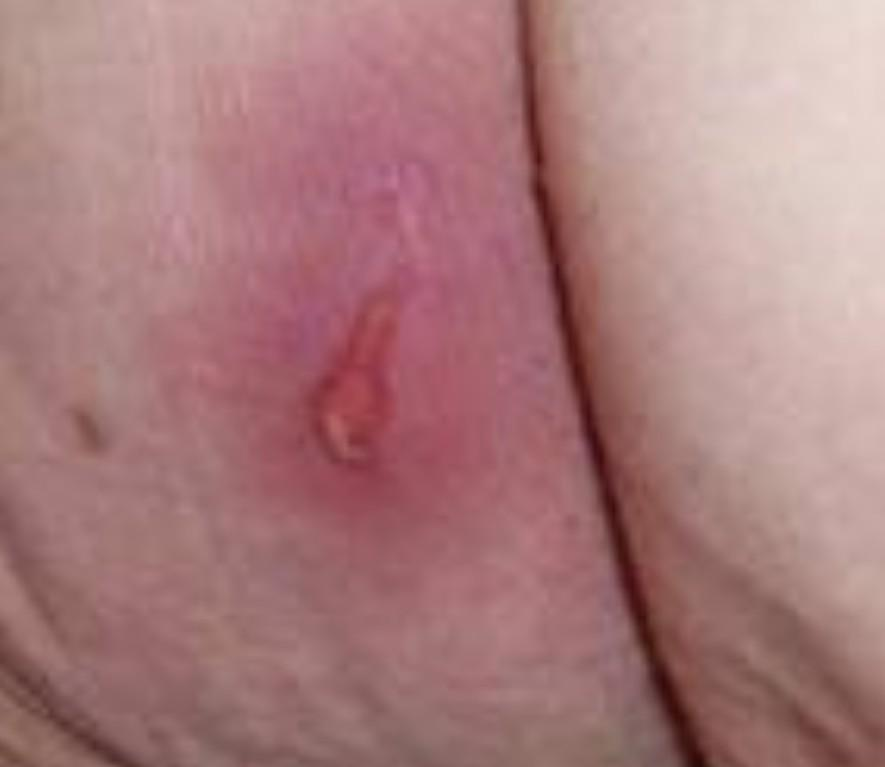Stage2: (207, 198, 497, 501)
